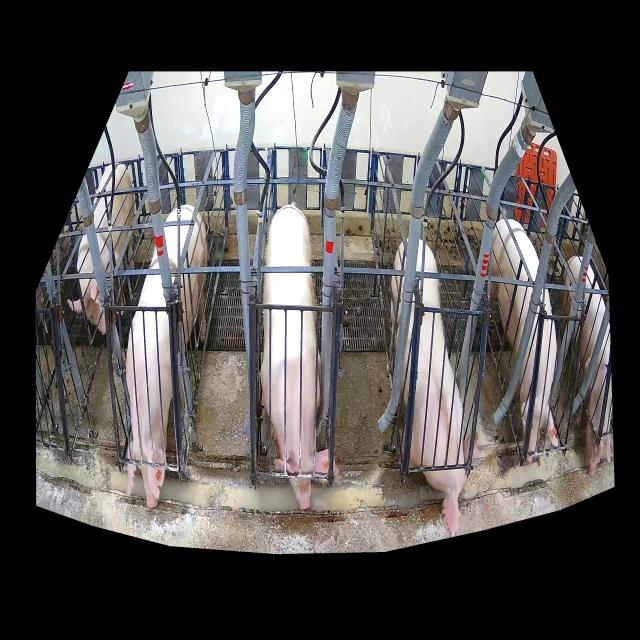pig: (387, 237, 479, 536), (126, 206, 208, 508), (260, 205, 341, 509), (489, 219, 559, 463), (558, 256, 612, 477), (68, 164, 134, 336)
